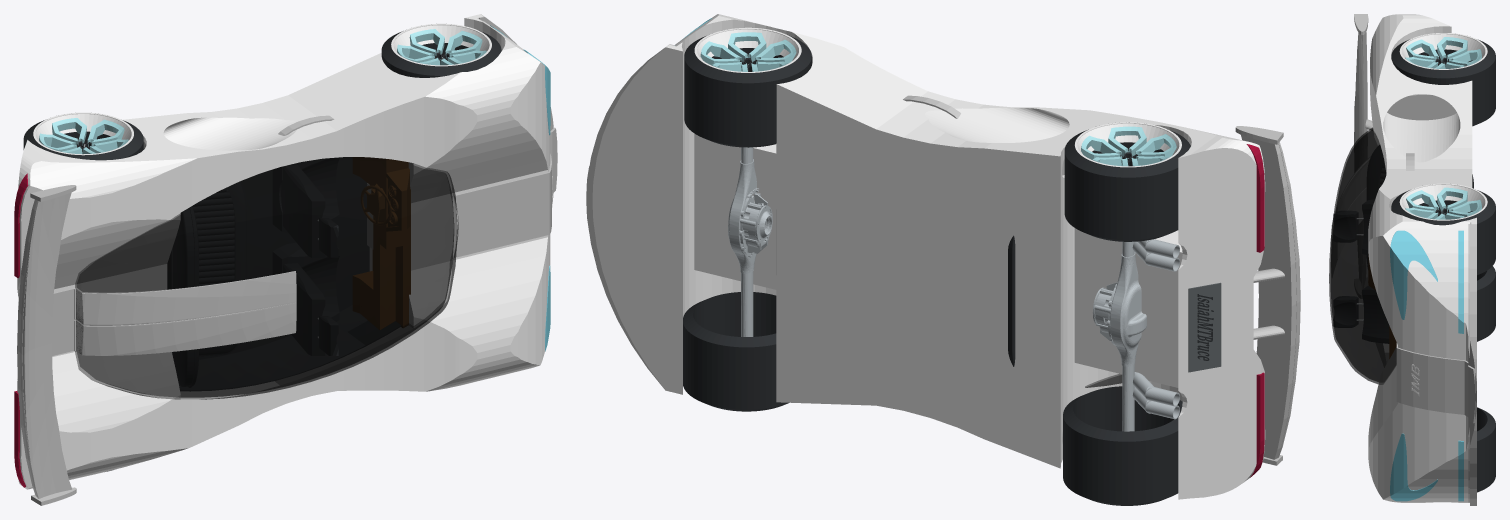
The model's file is tinker.obj.
3 views of the same model, side by side, from view 1: azimuth 30°, elevation 25°; view 2: azimuth 150°, elevation 25°; view 3: azimuth 270°, elevation 25° (orthographic). The views are drawn at different scales.
Parts seen in each view (by area): view 1: obj_12, obj_9, obj_11, obj_10, obj_8, obj_13, obj_7, obj_5; view 2: obj_12, obj_5, obj_7, obj_3, obj_0, obj_13; view 3: obj_12, obj_9, obj_5, obj_7, obj_10, obj_0, obj_3, obj_13, obj_8.
Boxes of the visible parts, bbox=[...] form: obj_12: bbox=[14, 14, 557, 505]; obj_9: bbox=[75, 157, 457, 399]; obj_11: bbox=[167, 157, 400, 391]; obj_10: bbox=[273, 157, 339, 355]; obj_8: bbox=[353, 157, 410, 329]; obj_13: bbox=[173, 181, 246, 387]; obj_7: bbox=[381, 23, 501, 77]; obj_5: bbox=[23, 112, 143, 160]; obj_12: bbox=[586, 14, 1300, 499]; obj_5: bbox=[1064, 122, 1190, 241]; obj_7: bbox=[684, 27, 811, 147]; obj_3: bbox=[1063, 386, 1182, 505]; obj_0: bbox=[683, 292, 789, 411]; obj_13: bbox=[1008, 235, 1015, 366]; obj_12: bbox=[1331, 14, 1476, 505]; obj_9: bbox=[1329, 127, 1396, 384]; obj_5: bbox=[1391, 33, 1495, 126]; obj_7: bbox=[1391, 183, 1495, 275]; obj_10: bbox=[1333, 199, 1388, 343]; obj_0: bbox=[1477, 407, 1495, 492]; obj_3: bbox=[1477, 266, 1495, 341]; obj_13: bbox=[1367, 145, 1473, 266]; obj_8: bbox=[1368, 257, 1396, 358].
Size of the model in its own units: 418 by 216 by 115.
